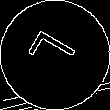L_SE: (26, 29, 84, 81)
